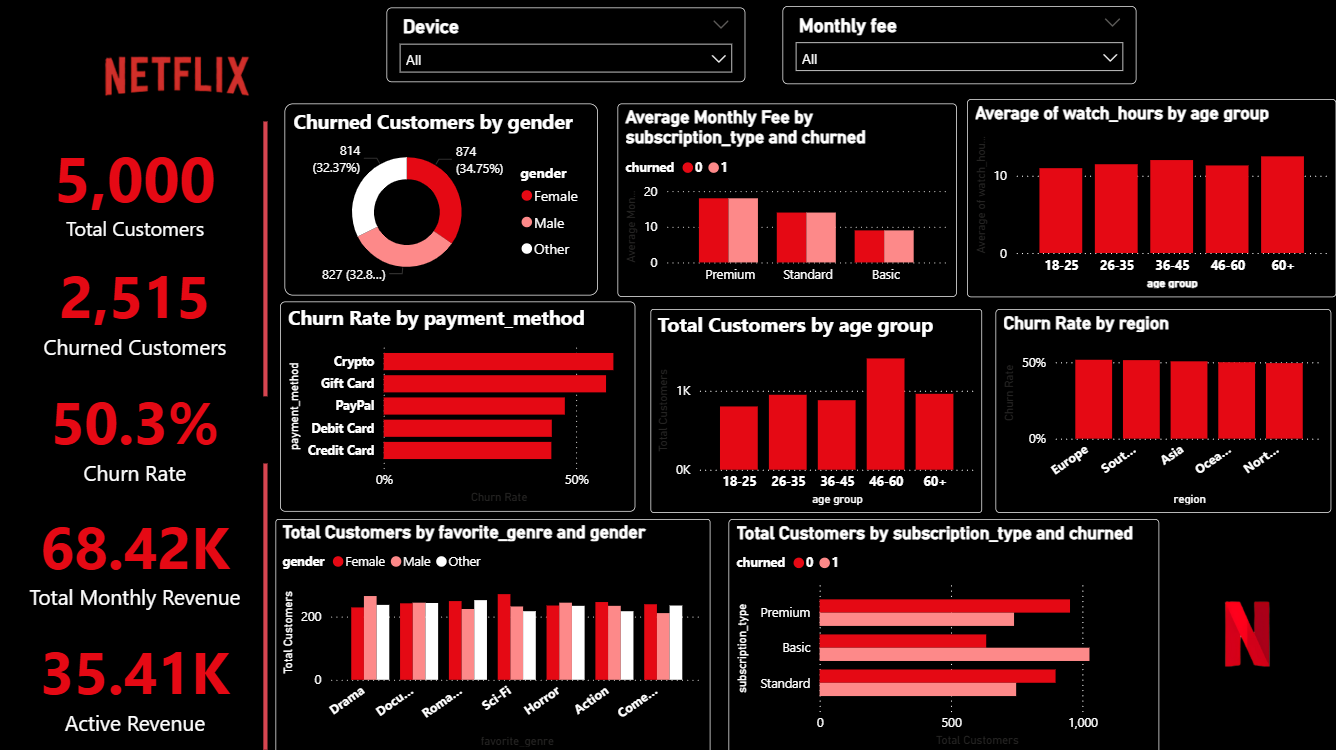

The dashboard page shown, as its layout file describes it:
{"tool":"powerbi","page":{"name":"Page 1","canvas":[1280,720],"ordinal":0},"visuals":[{"type":"donutChart","fields":{"Category":["netflix_customer_churn.gender"],"Y":["Table_measures.Churned Customers"]},"box":[273.6,98.8,299.4,183.3],"z":0},{"type":"columnChart","fields":{"Category":["mapping_agegroup.age group"],"Y":["Table_measures.Total Customers"]},"box":[623.1,295.1,316.6,194.8],"z":1000},{"type":"clusteredColumnChart","fields":{"Category":["netflix_customer_churn.favorite_genre"],"Y":["Table_measures.Total Customers"],"Series":["netflix_customer_churn.gender"]},"box":[265,495.1,415.4,224.9],"z":2000},{"type":"clusteredColumnChart","fields":{"Y":["Avg(netflix_customer_churn.watch_hours)"],"Category":["mapping_agegroup.age group"]},"box":[925.3,94.5,352.4,189.1],"z":3000},{"type":"clusteredBarChart","fields":{"Category":["netflix_customer_churn.subscription_type"],"Y":["Table_measures.Total Customers"],"Series":["netflix_customer_churn.churned"]},"box":[697.6,495.6,411.1,224.9],"z":4000},{"type":"clusteredColumnChart","fields":{"Y":["Table_measures.Average Monthly Fee"],"Category":["netflix_customer_churn.subscription_type"],"Series":["netflix_customer_churn.churned"]},"box":[591.6,98.8,323.7,184.8],"z":5000},{"type":"clusteredBarChart","fields":{"Category":["netflix_customer_churn.payment_method"],"Y":["Table_measures.Churn Rate"]},"box":[269.3,287.9,339.5,200.5],"z":6000},{"type":"columnChart","fields":{"Category":["netflix_customer_churn.region"],"Y":["Table_measures.Churn Rate"]},"box":[952.5,295.1,320.9,194.8],"z":7000},{"type":"card","fields":{"Values":["Table_measures.Churned Customers"]},"box":[0,225.9,260.9,133.6],"z":8000},{"type":"card","fields":{"Values":["Table_measures.Churn Rate"]},"box":[0,349.5,260.7,127.5],"z":9000},{"type":"card","fields":{"Values":["Table_measures.Total Monthly Revenue"]},"box":[0,461.3,260.9,141.6],"z":10000},{"type":"card","fields":{"Values":["Table_measures.Active Revenue"]},"box":[0,598.1,260.9,106.6],"z":11000},{"type":"image","box":[0,0,338,127.5],"z":12000},{"type":"card","fields":{"Values":["Table_measures.Total Customers"]},"box":[0,109.8,260.9,136.8],"z":13000},{"type":"image","box":[1108.7,477,171.9,243.5],"z":14000},{"type":"slicer","fields":{"Values":["netflix_customer_churn.device"]},"box":[371,7.2,342.3,71.6],"z":15000},{"type":"slicer","fields":{"Values":["netflix_customer_churn.monthly_fee"]},"box":[749.1,5.7,338,74.5],"z":16000},{"type":"shape","box":[128.8,116.1,252.9,262.5],"z":17000},{"type":"shape","box":[128.8,442.2,252.9,273.6],"z":18000}]}

Visuals, with their boxes in screenshot pixels (x1, y1, x2, y2), scaled from the page's 1280x720 canvas onto the 1336x750 screenshot:
donutChart - netflix_customer_churn.gender x Table_measures.Churned Customers: (286,103,598,294)
columnChart - mapping_agegroup.age group x Table_measures.Total Customers: (650,307,981,510)
clusteredColumnChart - netflix_customer_churn.favorite_genre x Table_measures.Total Customers: (277,516,710,749)
clusteredColumnChart - Avg(netflix_customer_churn.watch_hours) x mapping_agegroup.age group: (966,98,1334,295)
clusteredBarChart - netflix_customer_churn.subscription_type x Table_measures.Total Customers: (728,516,1157,749)
clusteredColumnChart - Table_measures.Average Monthly Fee x netflix_customer_churn.subscription_type: (617,103,955,295)
clusteredBarChart - netflix_customer_churn.payment_method x Table_measures.Churn Rate: (281,300,635,509)
columnChart - netflix_customer_churn.region x Table_measures.Churn Rate: (994,307,1329,510)
card - Table_measures.Churned Customers: (0,235,272,374)
card - Table_measures.Churn Rate: (0,364,272,497)
card - Table_measures.Total Monthly Revenue: (0,481,272,628)
card - Table_measures.Active Revenue: (0,623,272,734)
image: (0,0,353,133)
card - Table_measures.Total Customers: (0,114,272,257)
image: (1157,497,1335,749)
slicer - netflix_customer_churn.device: (387,8,745,82)
slicer - netflix_customer_churn.monthly_fee: (782,6,1135,84)
shape: (134,121,398,394)
shape: (134,461,398,746)
